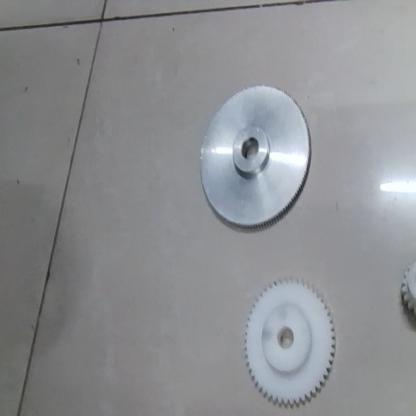FOD: (198, 82, 310, 234), (240, 278, 337, 402), (402, 258, 415, 325)
